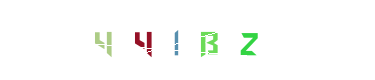1: (136, 0, 216, 80)
4: (97, 0, 177, 80), (103, 0, 183, 80)
B: (147, 0, 227, 80)
Z: (188, 0, 268, 80)
